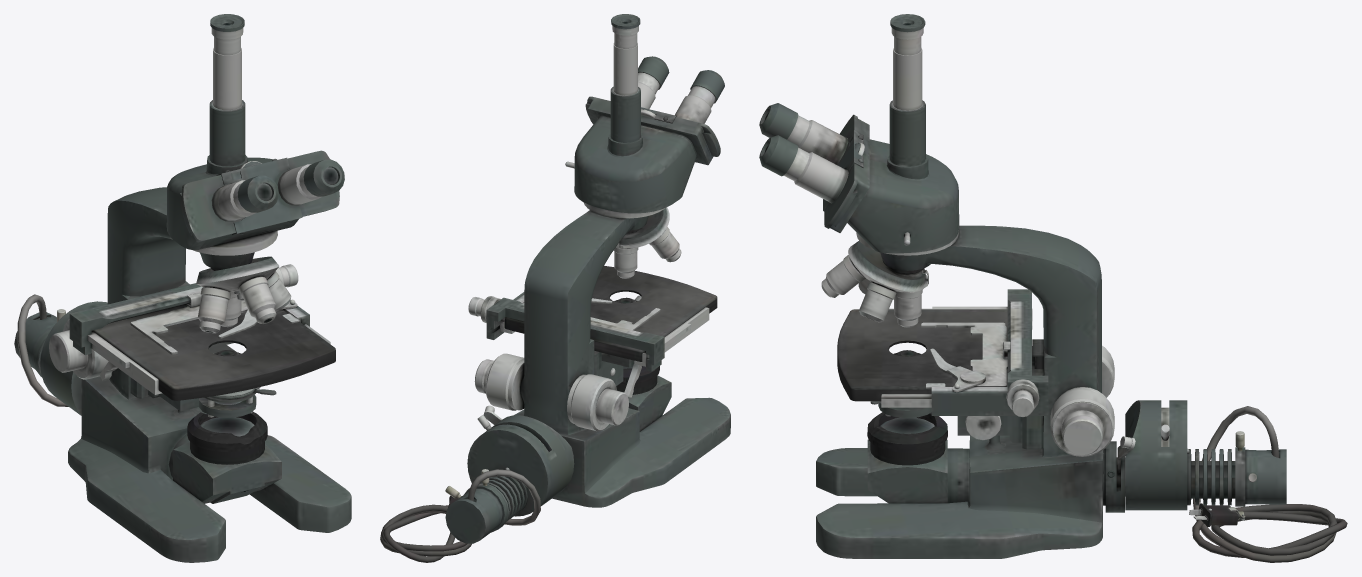
3 renders of one model, left to right at view 1: azimuth 30°, elevation 25°; view 2: azimuth 150°, elevation 25°; view 3: azimuth 270°, elevation 25°, orthographic. The views are drawn at different scales.
Parts seen in each view (by area): view 1: industrial_microscope, industrial_microscope_cable; view 2: industrial_microscope, industrial_microscope_cable; view 3: industrial_microscope, industrial_microscope_cable.
Part boxes in pixels (x1,y1,x2,y2): industrial_microscope: [14, 14, 351, 562]; industrial_microscope_cable: [17, 294, 68, 406]; industrial_microscope: [445, 14, 730, 543]; industrial_microscope_cable: [380, 469, 540, 562]; industrial_microscope: [759, 14, 1286, 558]; industrial_microscope_cable: [1189, 406, 1347, 562].
Size of the model in its own units: 0.2145 by 0.4617 by 0.4981.
1 material, 1 textured.
